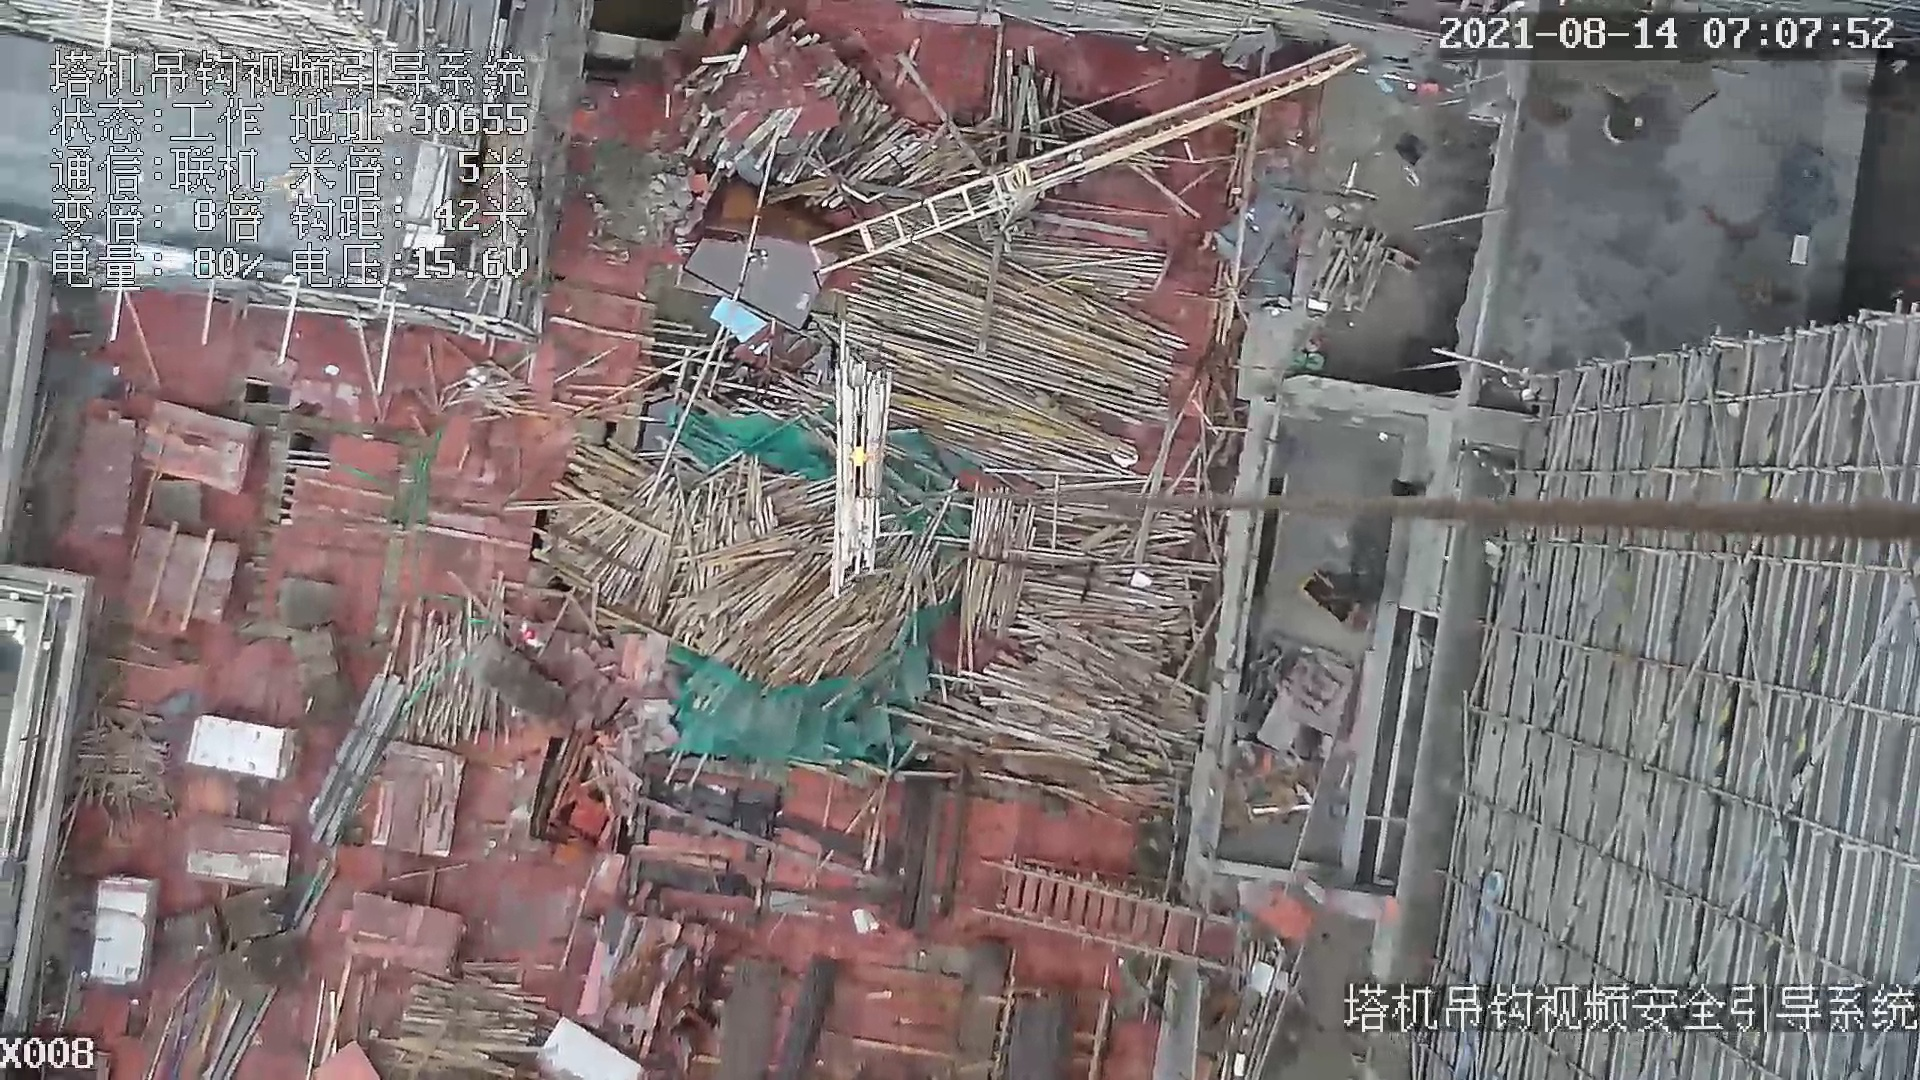hook: (845, 405, 874, 500)
